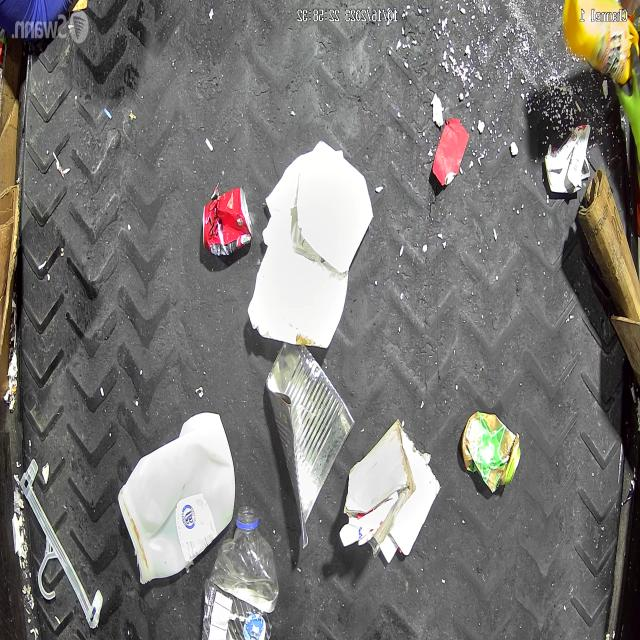can: (265, 329, 353, 547), (461, 411, 521, 488), (202, 187, 254, 257)
milk_jug: (117, 412, 236, 586)
non_white_jug: (561, 0, 640, 84)
plastic_bottle: (201, 505, 279, 640)
